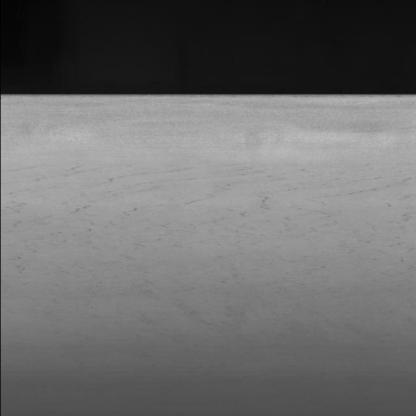silk_spot: (14, 160, 324, 267)
